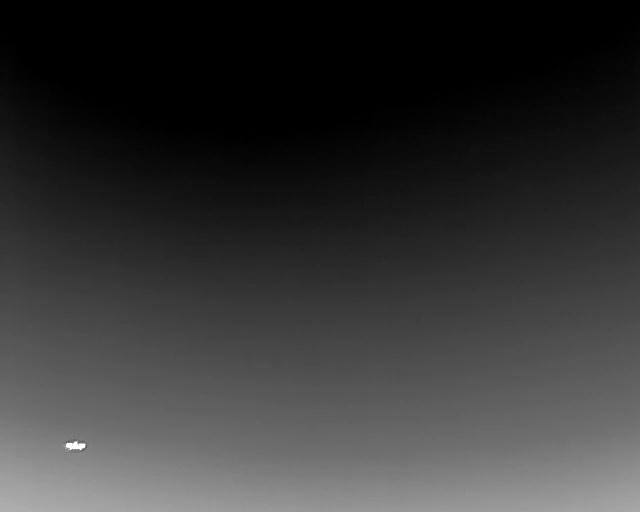fpv-drone: (62, 439, 87, 452)
